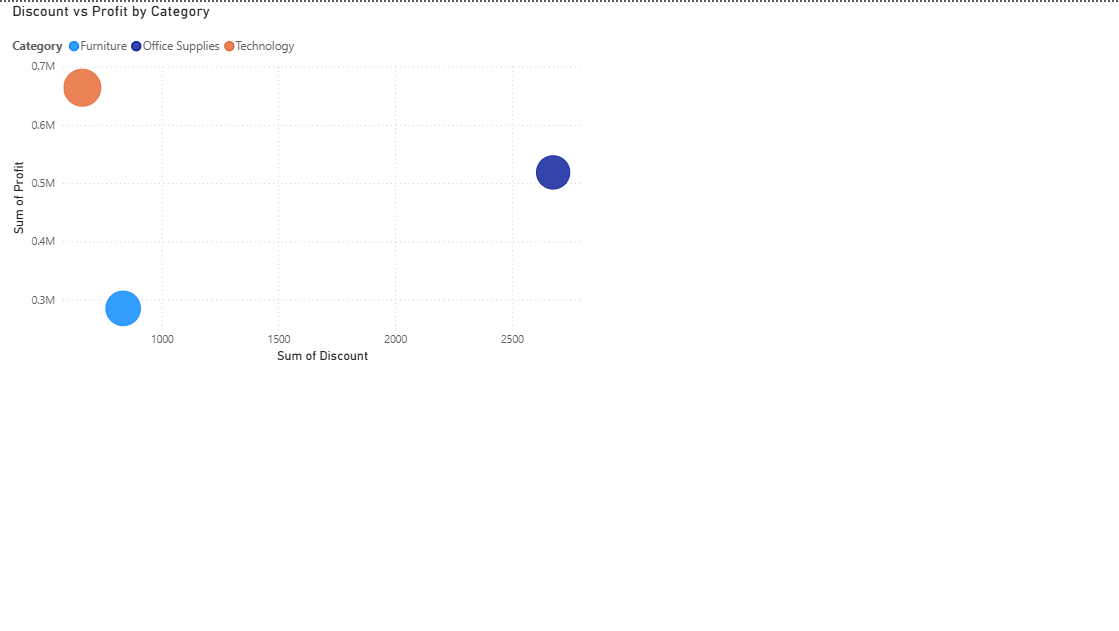

What the dashboard file says about the page in this screenshot:
{"tool":"powerbi","page":{"name":"Discount Analysis","canvas":[1280,720],"ordinal":2},"visuals":[{"type":"scatterChart","title":"Discount vs Profit by Category","fields":{"X":["Sum(superstore.Discount)"],"Y":["Sum(superstore.Profit)"],"Category":["superstore.Category"],"Size":["Sum(superstore.Sales)"],"Series":["superstore.Category"]},"box":[10,0,674.3,417.1],"z":0}]}

Visuals, with their boxes in screenshot pixels (x1, y1, x2, y2), scaled from the page's 1280x720 canvas onto the 1119x631 screenshot:
"Discount vs Profit by Category" scatterChart: BBox(9, 0, 598, 366)
